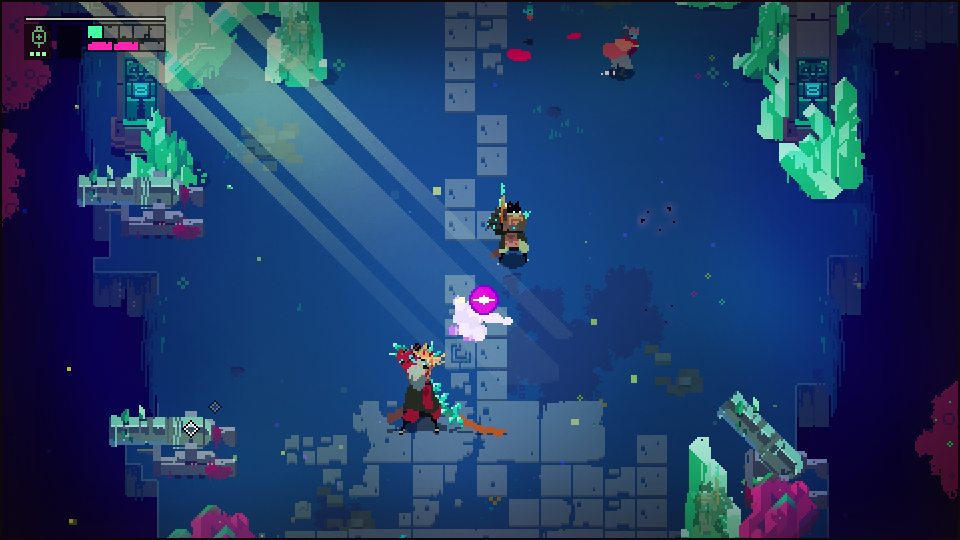hanged_man: (391, 345, 462, 429)
hanged_shot: (469, 286, 498, 313)
player: (605, 24, 642, 78)
